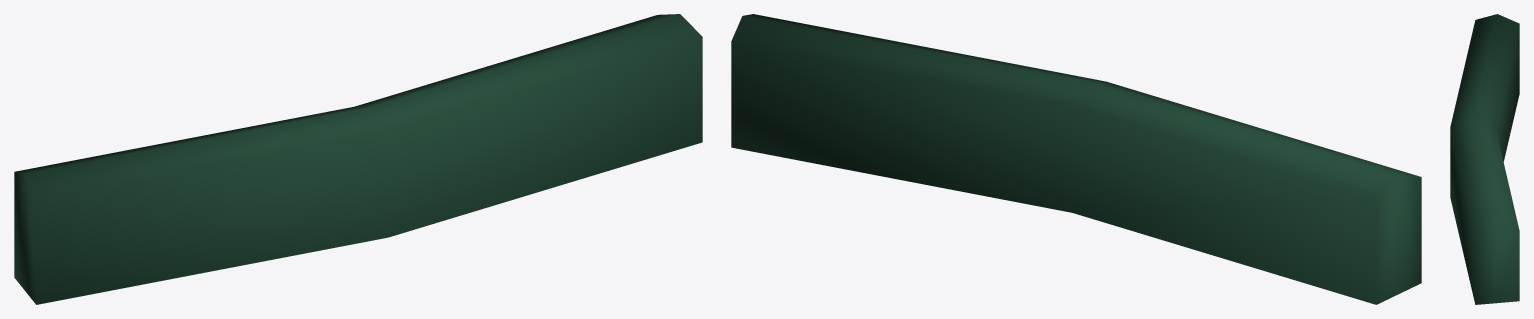
The model's file is Ring45.fbx.
The picture shows the model from 3 angles, left to right: view 1: azimuth 30°, elevation 25°; view 2: azimuth 150°, elevation 25°; view 3: azimuth 270°, elevation 25°; orthographic projection. The views are drawn at different scales.
Parts seen in each view (by area): view 1: Ring45; view 2: Ring45; view 3: Ring45.
Part boxes in pixels (x1=…): Ring45: x1=14, y1=14, x2=702, y2=304; Ring45: x1=731, y1=14, x2=1421, y2=304; Ring45: x1=1450, y1=14, x2=1519, y2=304.
Bounding box in the file's own units: 2372 × 400 × 323.
